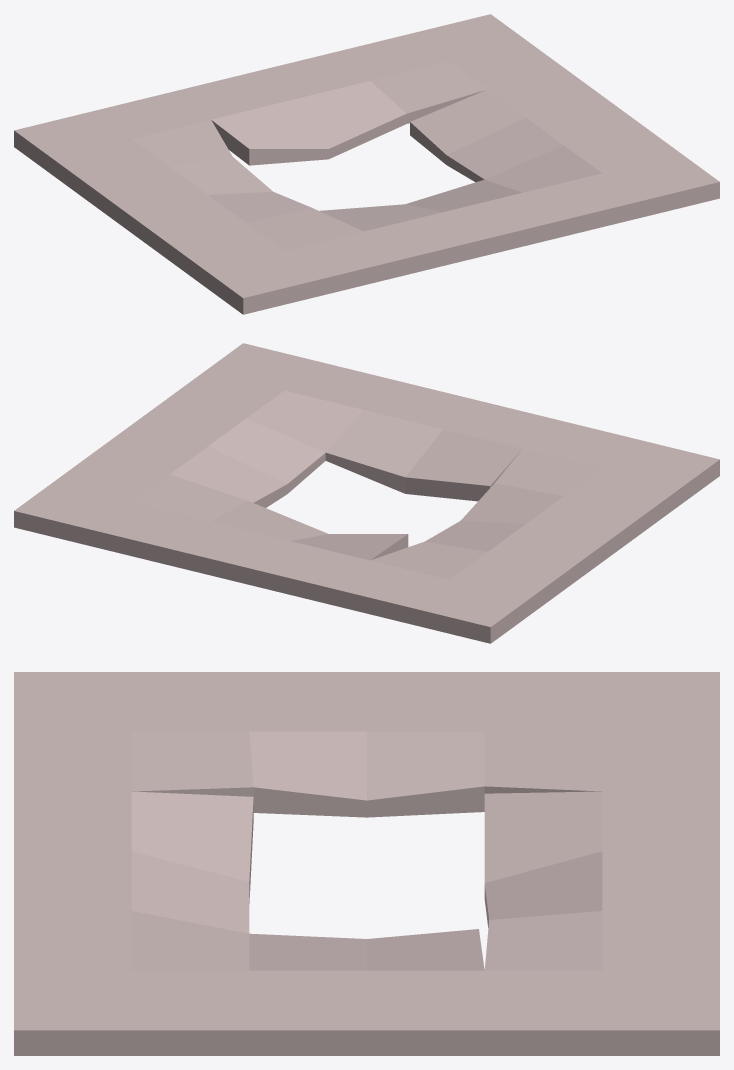
The model's file is FloorBrokenPrison.obj.
3 views of the same model, one above another, from view 1: azimuth 30°, elevation 25°; view 2: azimuth 150°, elevation 25°; view 3: azimuth 270°, elevation 25° (orthographic). The views are drawn at different scales.
Visible parts, largest first — view 1: FloorBrokenPrison; view 2: FloorBrokenPrison; view 3: FloorBrokenPrison.
Part boxes in pixels (left/top/right/bottom): FloorBrokenPrison: left=14, top=14, right=719, bottom=314; FloorBrokenPrison: left=14, top=343, right=719, bottom=643; FloorBrokenPrison: left=14, top=672, right=719, bottom=1055.
Size of the model in its own units: 6 by 0.4417 by 5.
